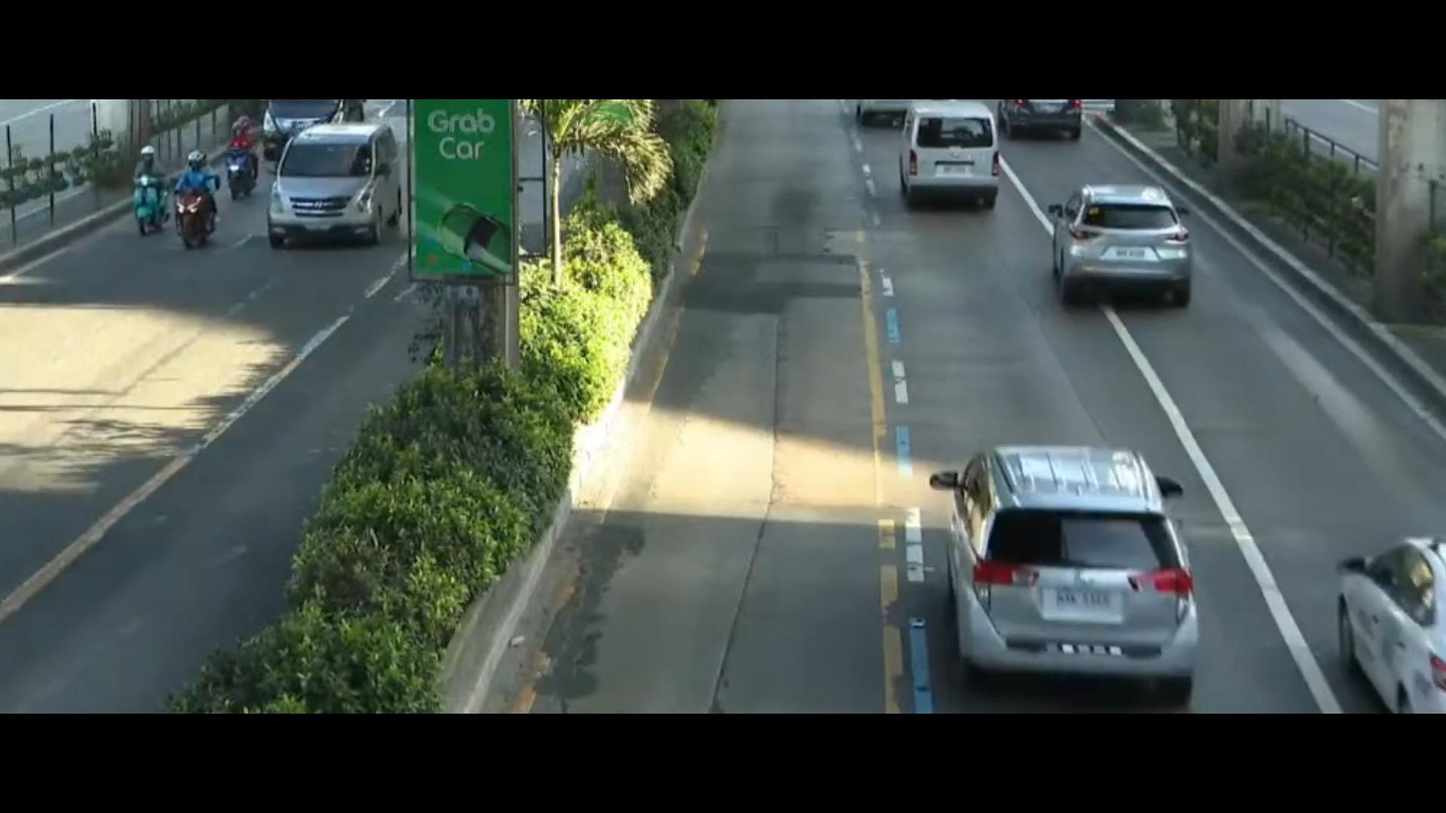Motorcycle: (164, 140, 226, 278), (206, 113, 268, 224), (108, 132, 164, 250)
SUV: (920, 414, 1217, 707)
Sedan: (1018, 160, 1232, 298), (1309, 518, 1446, 715)
Van: (245, 96, 433, 275), (870, 101, 1019, 232)
